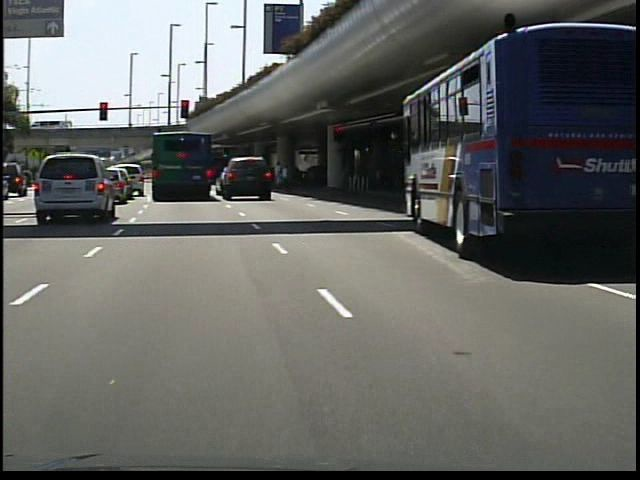person: (274, 157, 294, 195)
